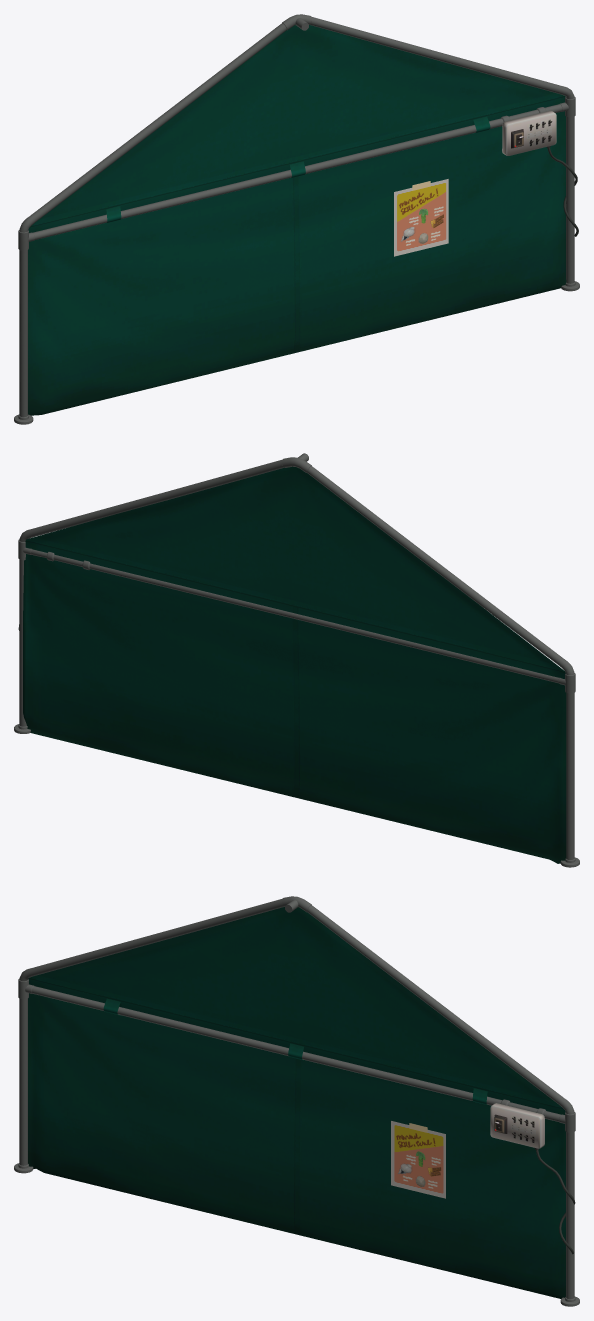
The model's file is Back.glb.
3 views of the same model, one above another, from view 1: azimuth 30°, elevation 25°; view 2: azimuth 150°, elevation 25°; view 3: azimuth 330°, elevation 25° (orthographic).
Visible parts, largest first — view 1: Back; view 2: Back; view 3: Back.
Boxes of the visible parts, left/top/right/bottom form: Back: left=14, top=14, right=579, bottom=424; Back: left=14, top=453, right=579, bottom=867; Back: left=14, top=896, right=579, bottom=1306.
Size of the model in its own units: 6.82 by 3.91 by 0.3641.
3 materials, 3 textured.
